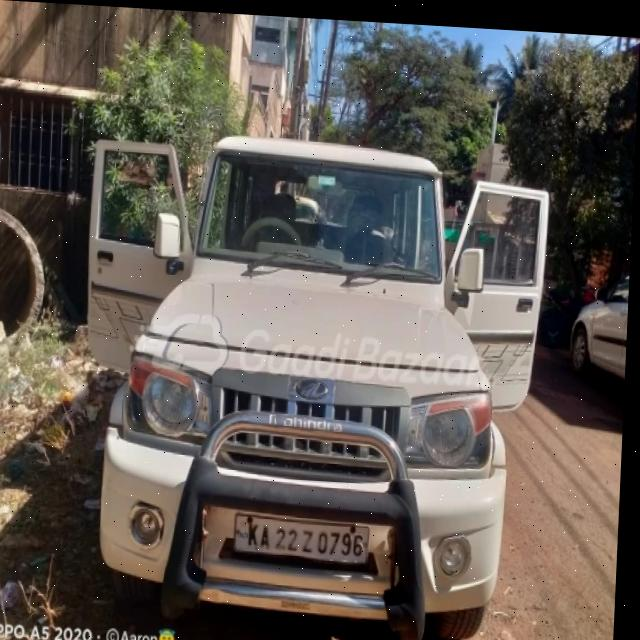plate: (236, 506, 376, 563)
